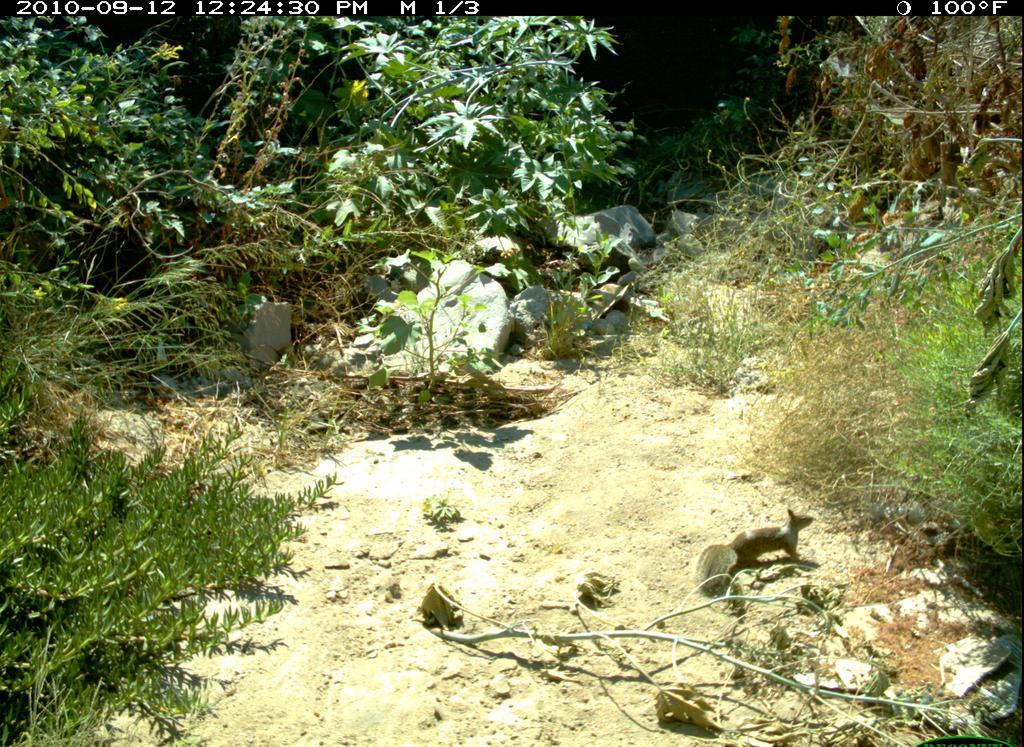squirrel: (694, 507, 839, 614)
